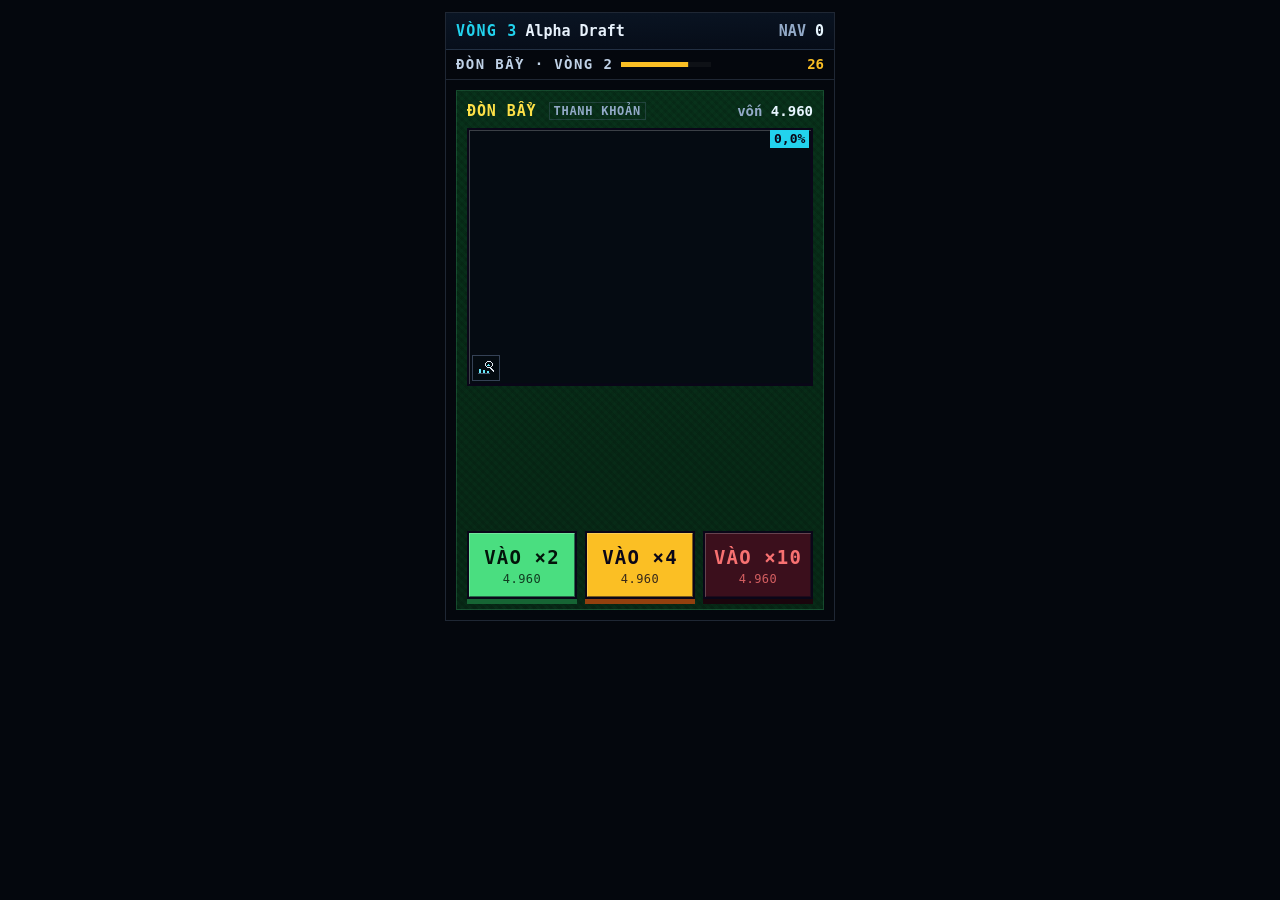
Test case: §V — D492: lõi Đòn Bẩy trong màn › ⭐ D504 — đang cầm: dòng tạm tính in SỐ TIỀN server gửi kèm dòng nhịp (không tự tính); cú bấm ⇒ mở lại dòng nhịp để nhận tạm tính mới
Click the button "VÀO ×10 4.960": (758, 565) [703, 531, 813, 599]
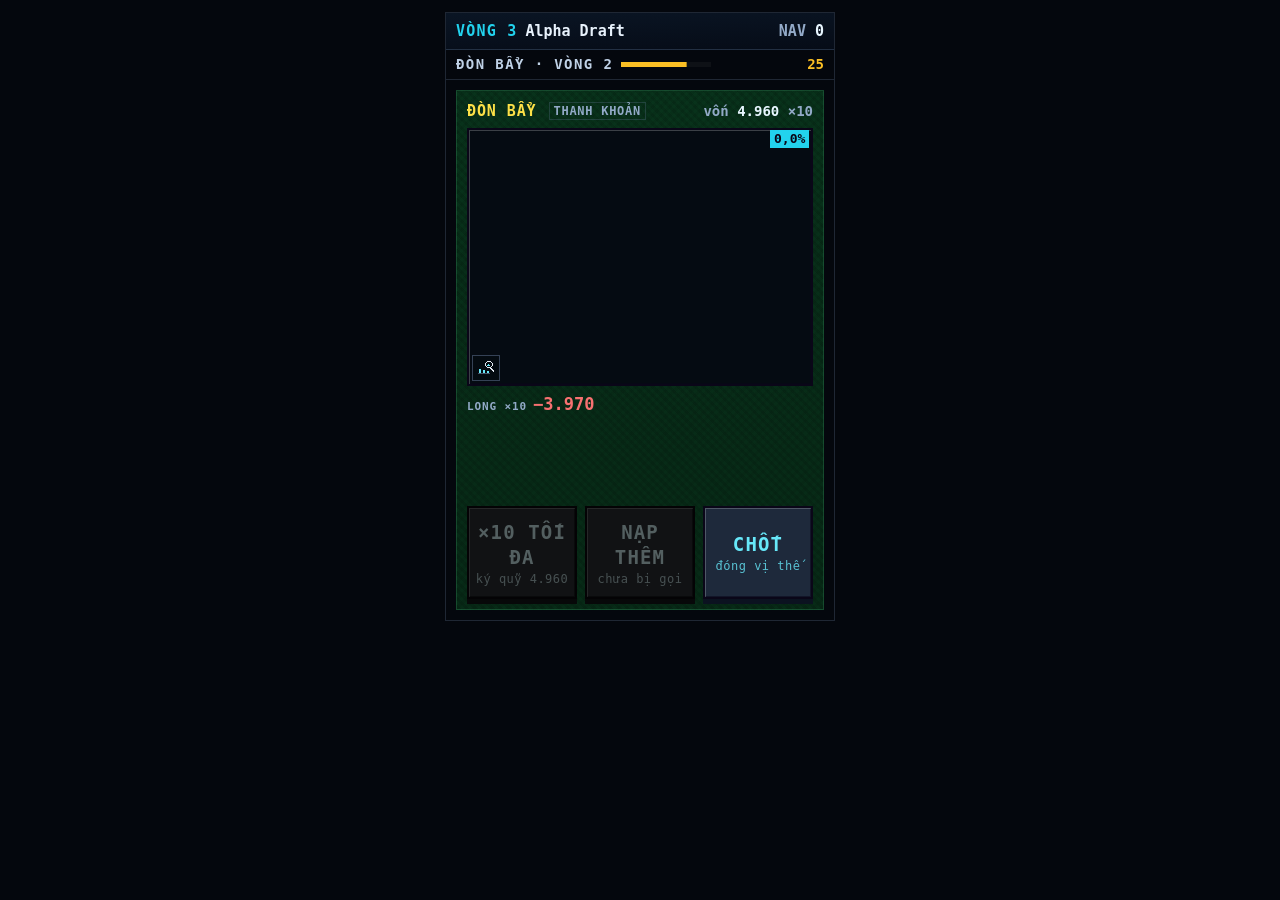
Result: the text "−3.970" is shown at [533, 393, 594, 416]
Result: the text "LONG ×10" is shown at [467, 400, 527, 415]
